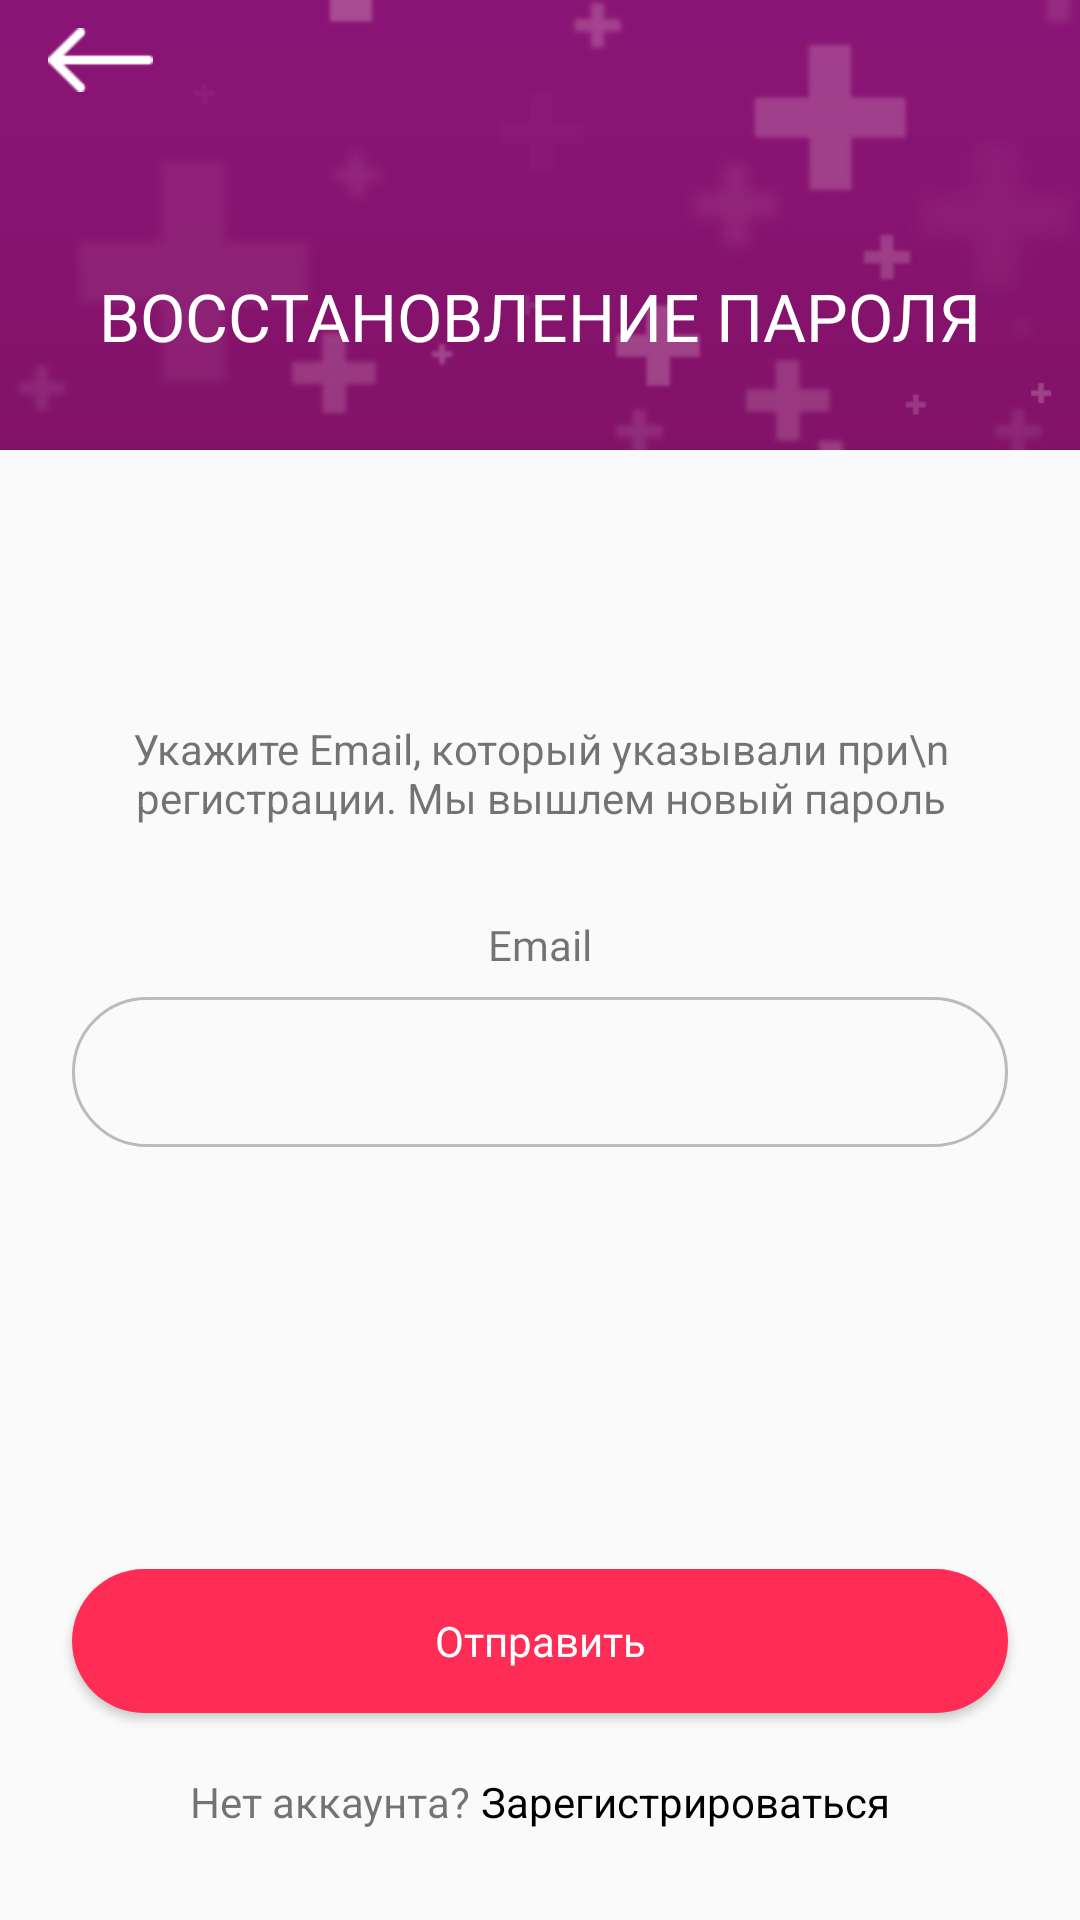

Point at icon controls on the screen. Image size 1080 x 1920, points as [x,y].
arrow back: [100,60]
